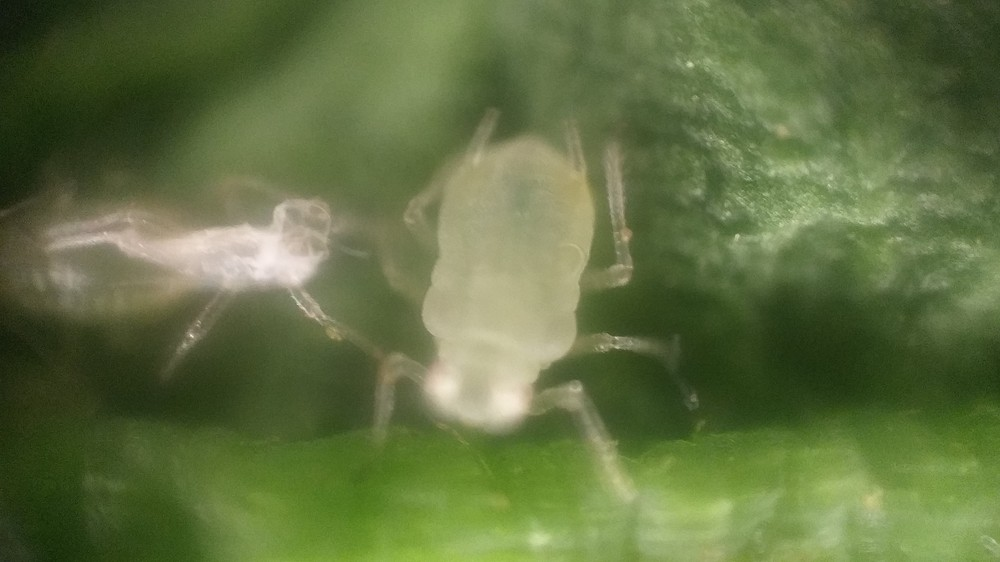Pulgon: (338, 101, 729, 492)
